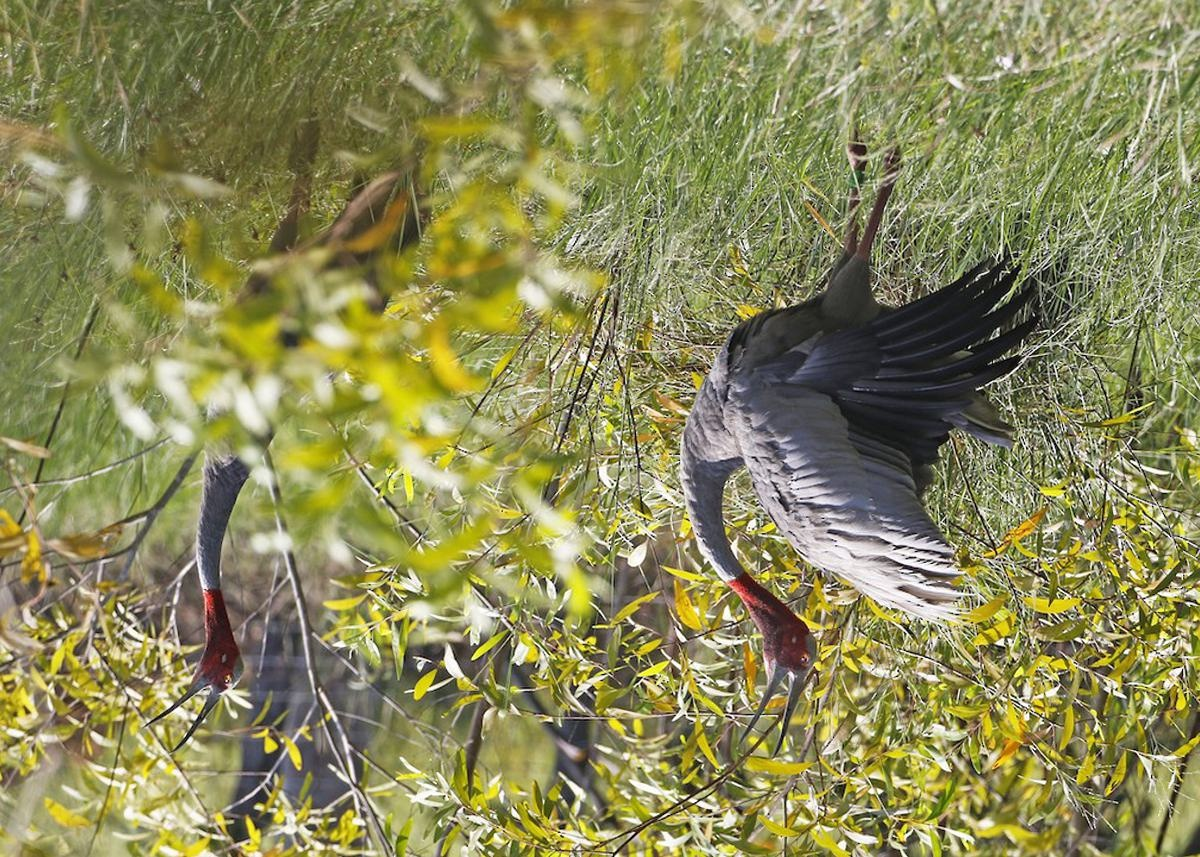crane: (659, 152, 1052, 758), (128, 132, 457, 778)
